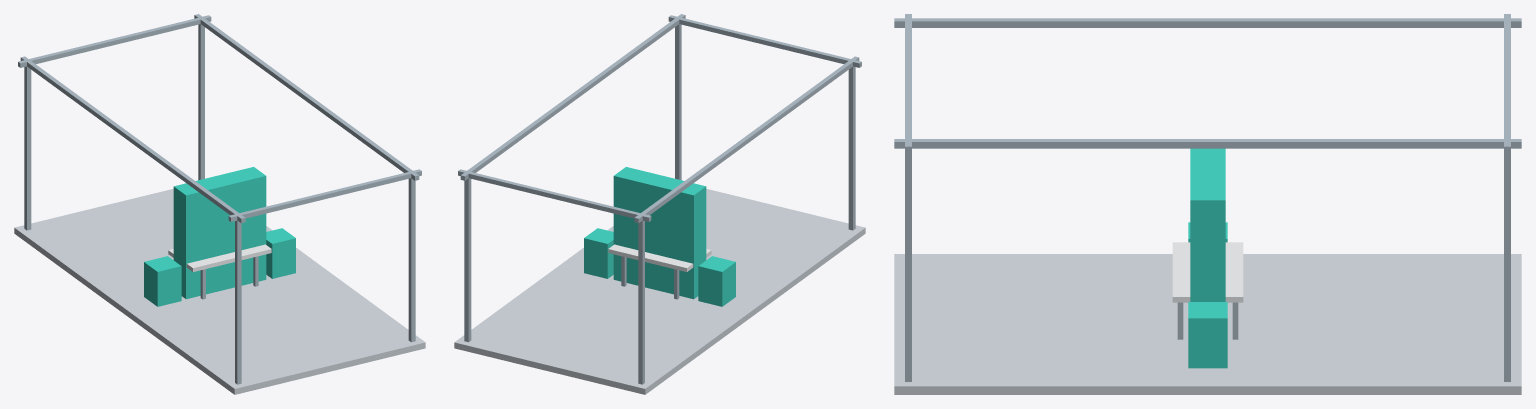
3 renders of one model, left to right at view 1: azimuth 30°, elevation 25°; view 2: azimuth 150°, elevation 25°; view 3: azimuth 270°, elevation 25°, orthographic. The views are drawn at different scales.
Visible parts, largest first — view 1: Exhibition Booth Concept; view 2: Exhibition Booth Concept; view 3: Exhibition Booth Concept.
Boxes of the visible parts, x1,y1,x2,y2 form: Exhibition Booth Concept: (14, 14, 425, 394); Exhibition Booth Concept: (454, 14, 865, 394); Exhibition Booth Concept: (894, 14, 1521, 394).
Bounding box in the file's own units: 4 × 3.49 × 8.
